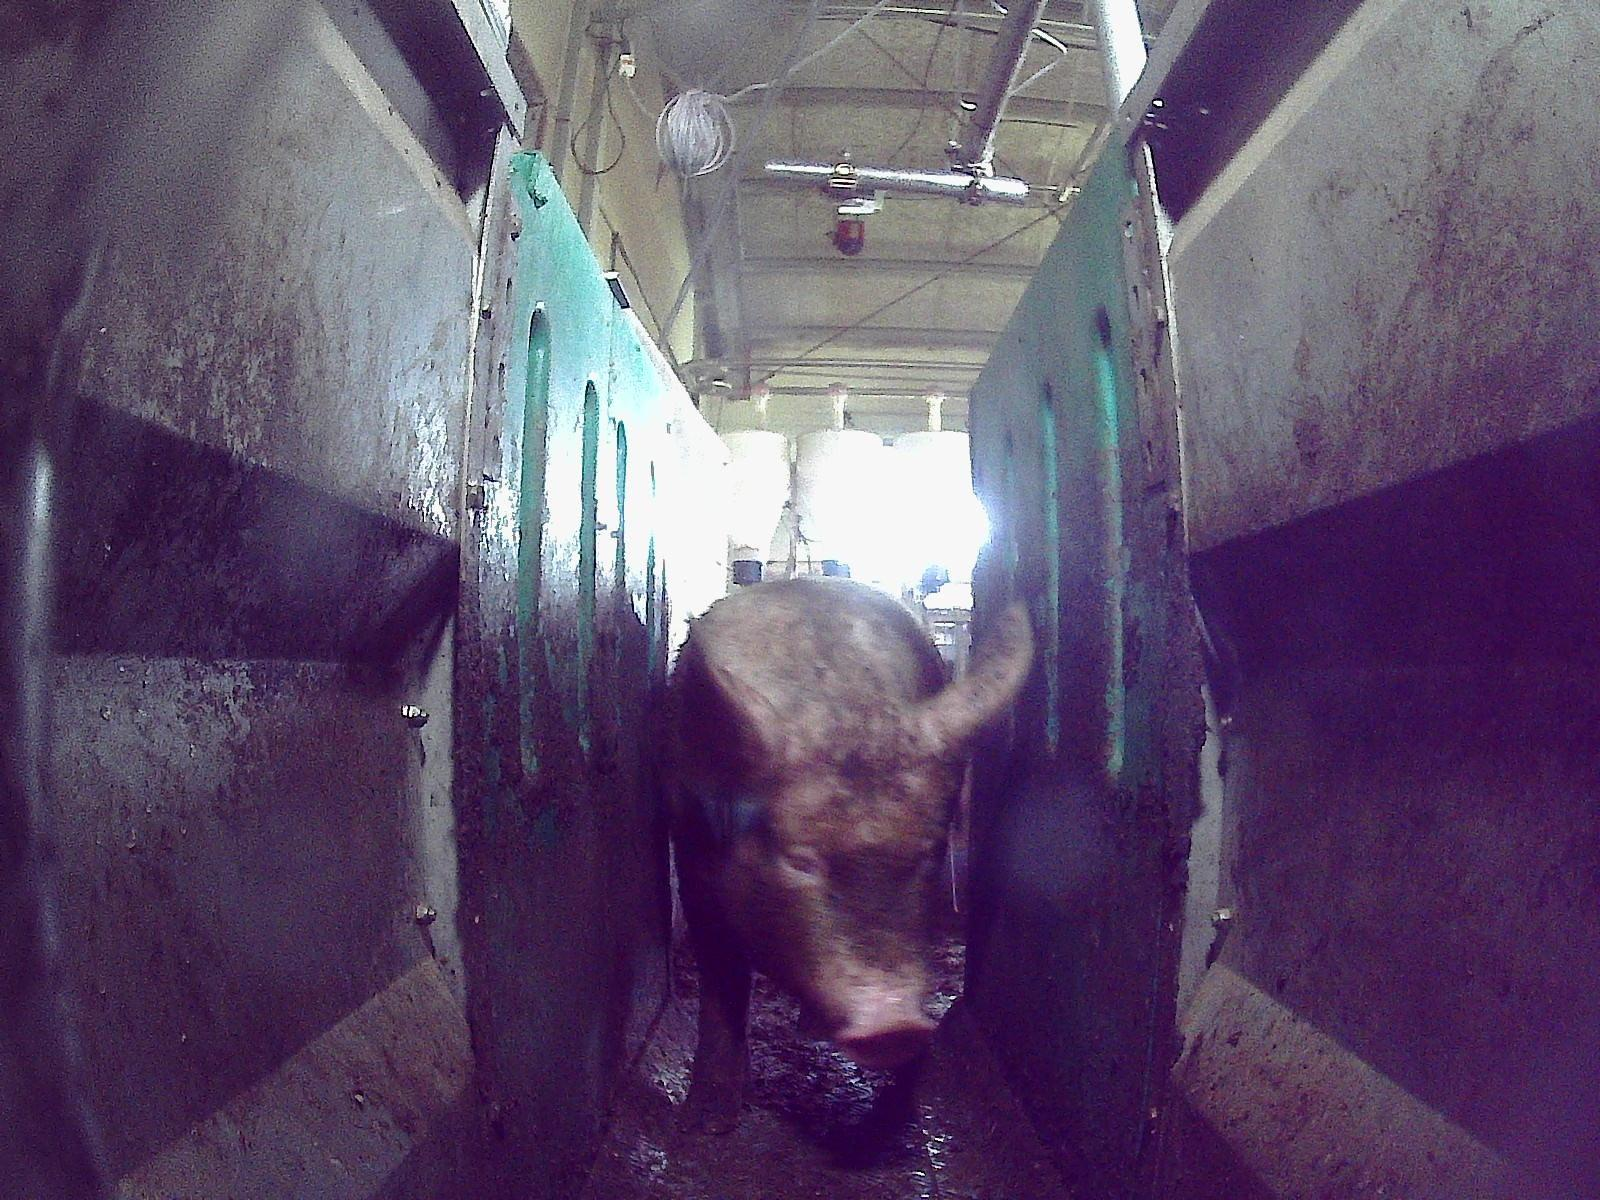Face: (744, 690, 954, 1065)
